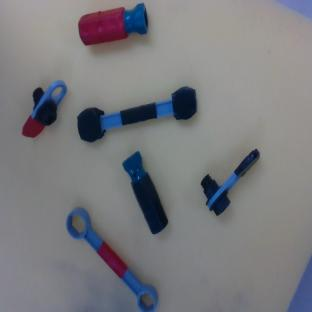part_1_bad: (190, 133, 262, 217)
part_1_good: (16, 72, 70, 144)
part_2_bad: (119, 150, 171, 235)
part_2_good: (76, 3, 150, 46)
part_3_bad: (74, 83, 201, 144)
part_3_good: (59, 204, 165, 312)
